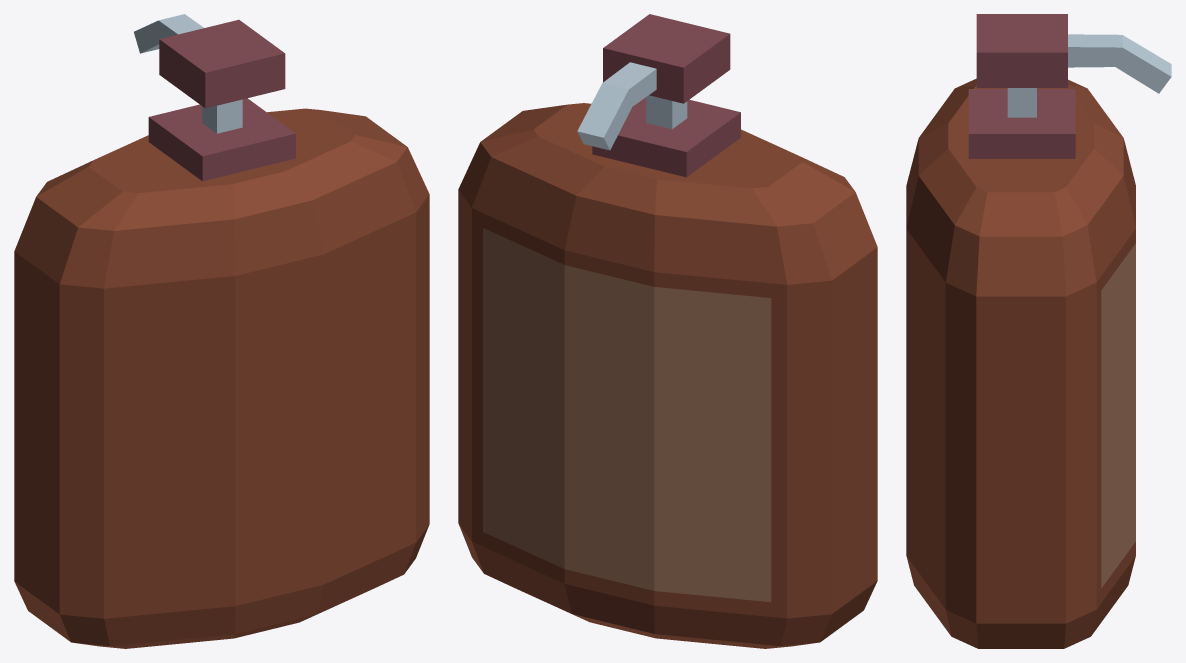
File: Lotion.OatsMeelk.fbx
3 renders of one model, left to right at view 1: azimuth 30°, elevation 25°; view 2: azimuth 150°, elevation 25°; view 3: azimuth 270°, elevation 25°, orthographic.
Parts seen in each view (by area): view 1: Lotion.OatsMeelk; view 2: Lotion.OatsMeelk; view 3: Lotion.OatsMeelk.
Boxes of the visible parts, x1,y1,x2,y2 form: Lotion.OatsMeelk: [14, 14, 429, 648]; Lotion.OatsMeelk: [458, 14, 877, 648]; Lotion.OatsMeelk: [906, 14, 1171, 648].
Size of the model in its own units: 64.56 by 91.91 by 40.49.
